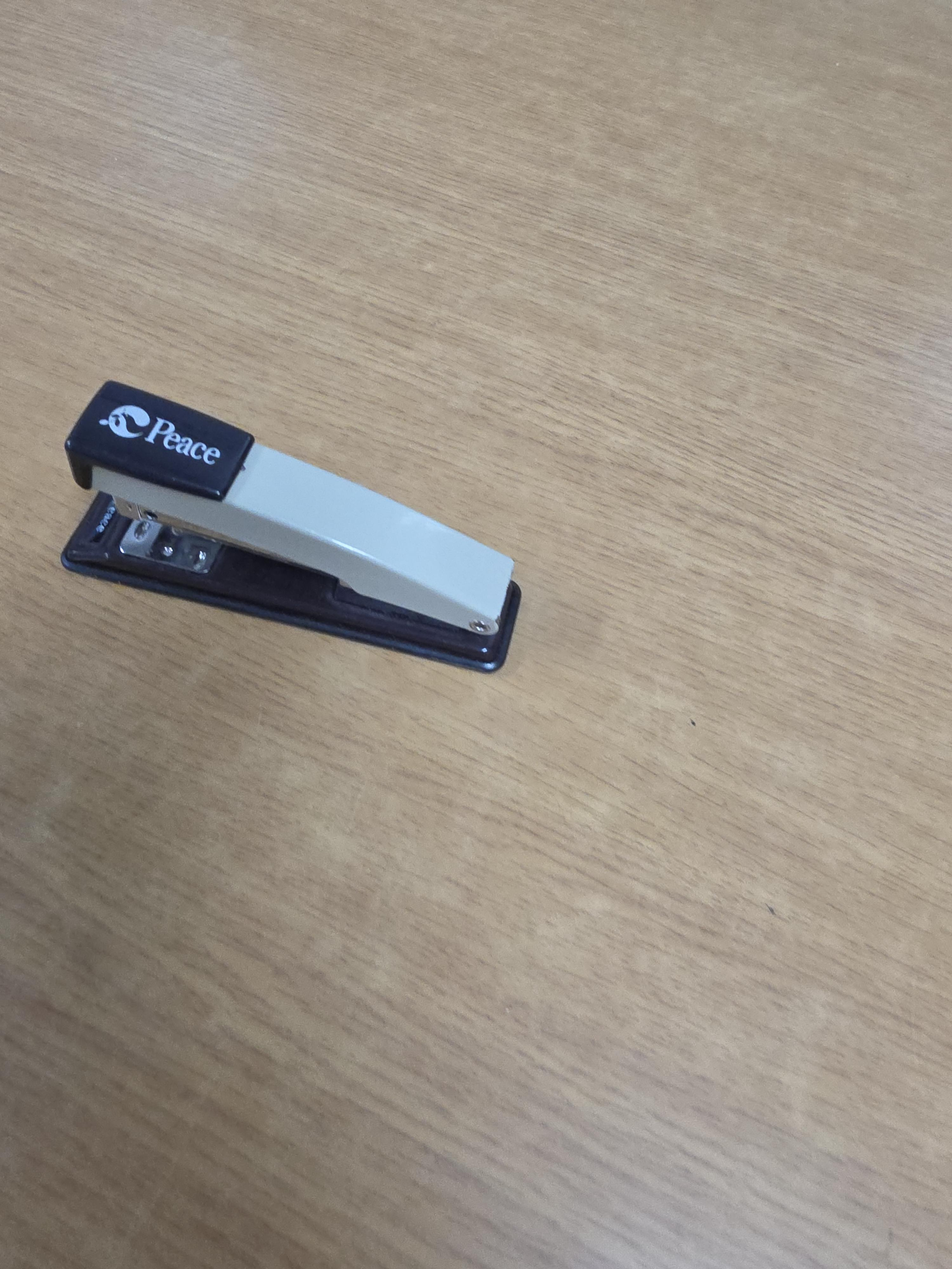stapler: (61, 379, 522, 672)
